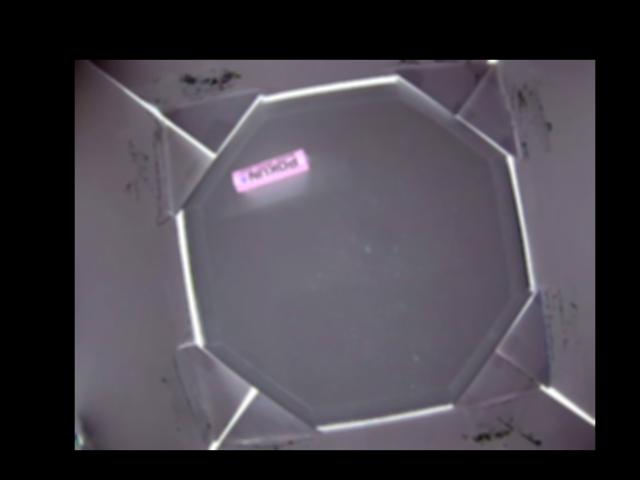Battery: (231, 148, 310, 192)
